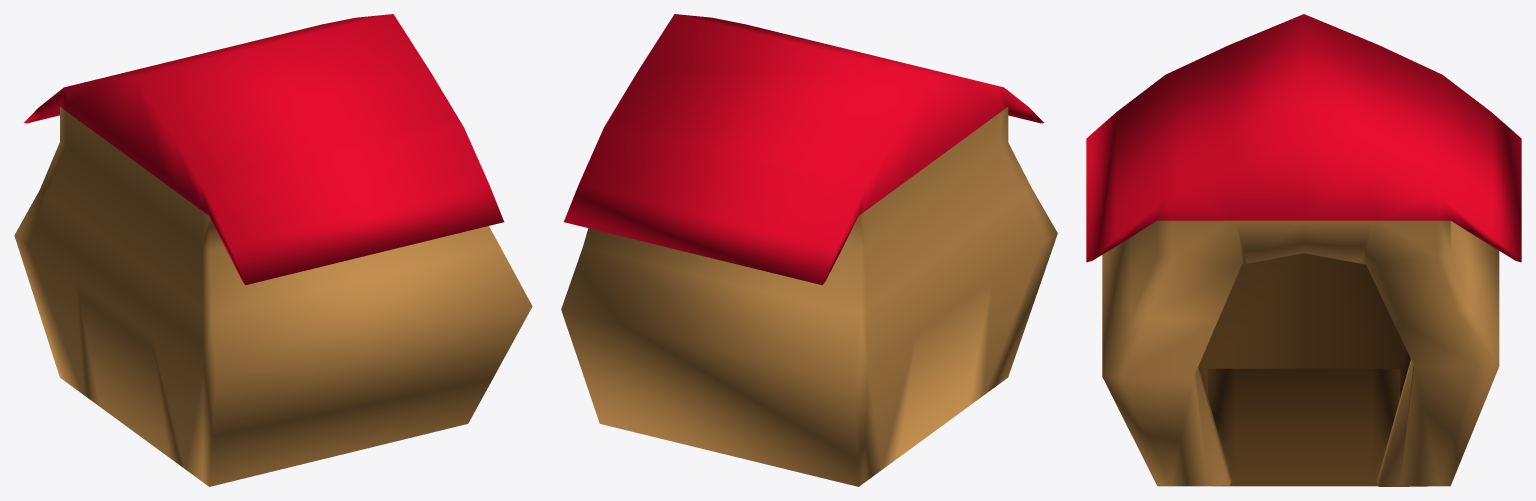
Rendered from casita.fbx.
3 views of the same model, side by side, from view 1: azimuth 30°, elevation 25°; view 2: azimuth 150°, elevation 25°; view 3: azimuth 270°, elevation 25° (orthographic).
Parts seen in each view (by area): view 1: casita; view 2: casita; view 3: casita.
Part boxes in pixels (x1,y1,x2,y2): casita: [14, 14, 532, 486]; casita: [561, 14, 1057, 486]; casita: [1086, 14, 1521, 486].
Bounding box in the file's own units: 246 × 270 × 297.
